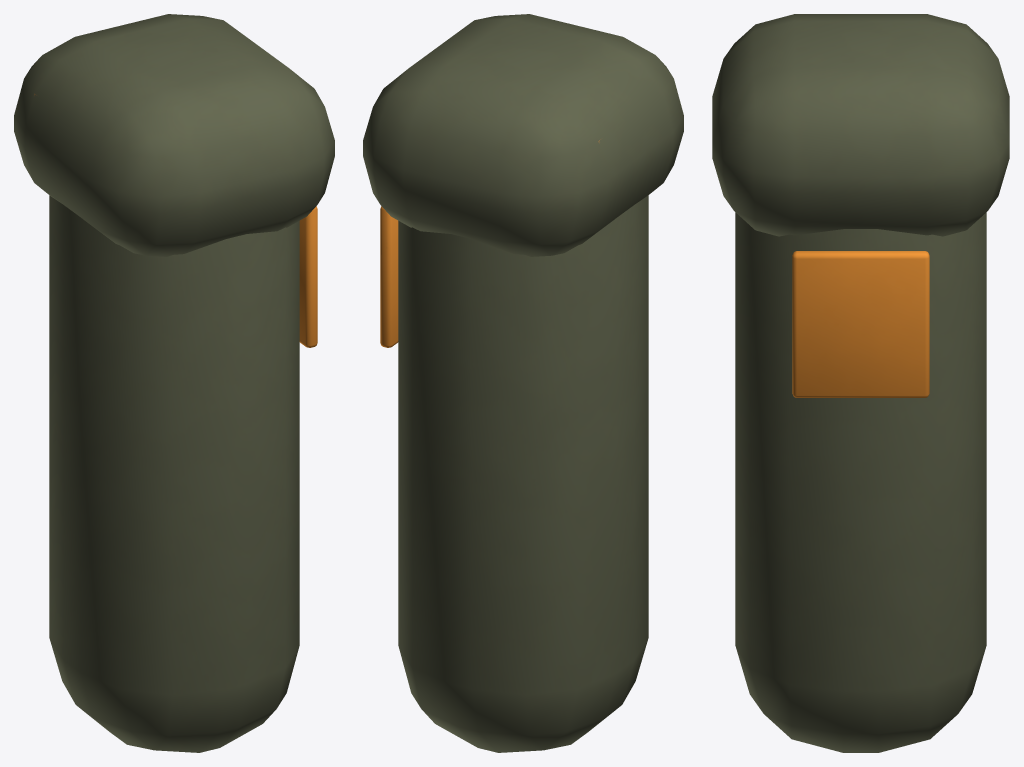
The model's file is SM_OperatorAUpperArm.fbx.
3 renders of one model, left to right at view 1: azimuth 30°, elevation 25°; view 2: azimuth 150°, elevation 25°; view 3: azimuth 270°, elevation 25°, orthographic.
Parts seen in each view (by area): view 1: SM_OperatorAUpperArm; view 2: SM_OperatorAUpperArm; view 3: SM_OperatorAUpperArm.
Part boxes in pixels (left/top/right/bottom): SM_OperatorAUpperArm: left=14, top=14, right=334, bottom=752; SM_OperatorAUpperArm: left=363, top=14, right=683, bottom=752; SM_OperatorAUpperArm: left=712, top=14, right=1009, bottom=752.
Bounding box in the file's own units: 0.12 × 0.335 × 0.13.
1 material, 1 textured.
